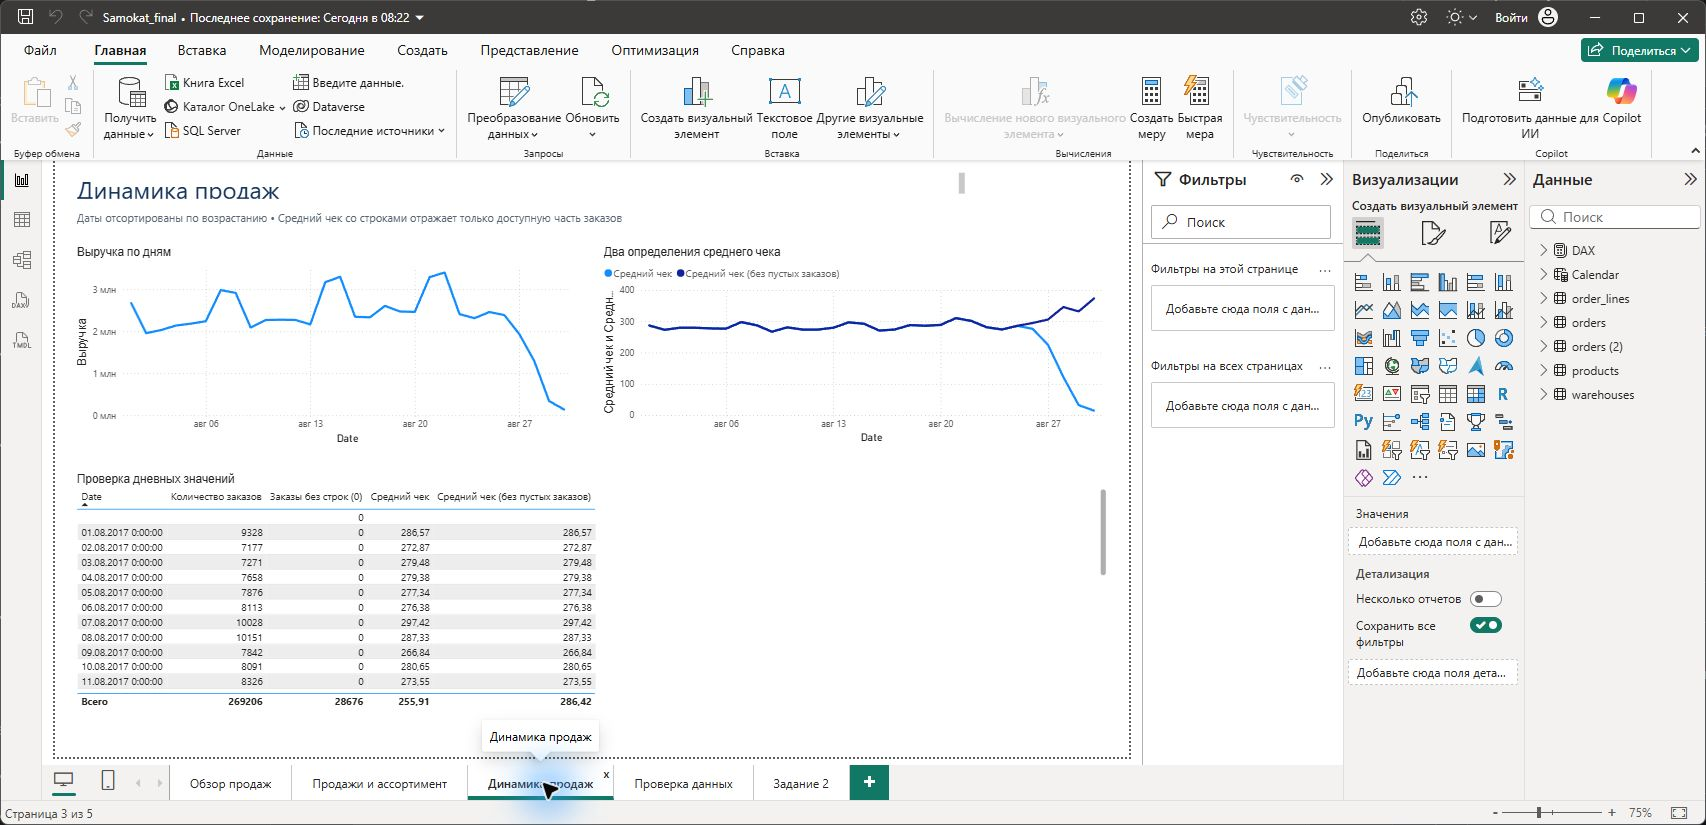

The dashboard page shown, as its layout file describes it:
{"tool":"powerbi","page":{"name":"Динамика продаж","canvas":[1440,800],"ordinal":2},"visuals":[{"type":"textbox","box":[24,12,1200,45],"z":0},{"type":"textbox","box":[24,61,1380,40],"z":1000},{"type":"lineChart","title":"Выручка по дням","fields":{"Category":["Calendar.Date"],"Y":["DAX.Выручка"]},"box":[24,115,680,270],"z":2000},{"type":"lineChart","title":"Два определения среднего чека","fields":{"Category":["Calendar.Date"],"Y":["DAX.Средний чек","DAX.Средний чек (без пустых заказов)"]},"box":[730,115,684,270],"z":3000},{"type":"tableEx","title":"Проверка дневных значений","fields":{"Values":["Calendar.Date","DAX.Количество заказов","DAX.Заказы без строк (0)","DAX.Средний чек","DAX.Средний чек (без пустых заказов)"]},"box":[24,420,1390,320],"z":4000}]}

Visuals, with their boxes on the page's 1440x800 design canvas (x1, y1, x2, y2). These are canvas units, not pixel positions in the 1706x825 screenshot, which may show the page scaled, cropped or inside an application window:
textbox: bbox(24, 12, 1224, 57)
textbox: bbox(24, 61, 1404, 101)
"Выручка по дням" lineChart: bbox(24, 115, 704, 385)
"Два определения среднего чека" lineChart: bbox(730, 115, 1414, 385)
"Проверка дневных значений" tableEx: bbox(24, 420, 1414, 740)
